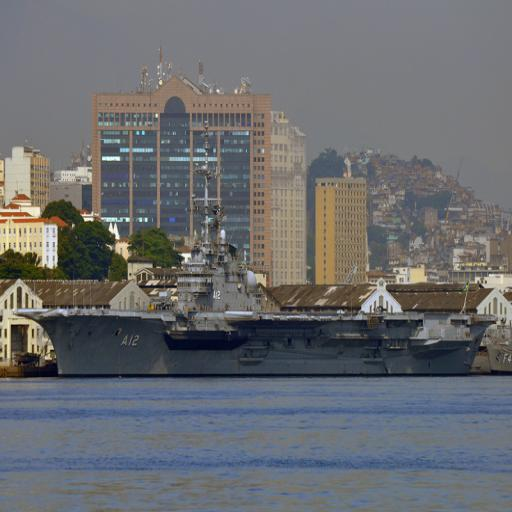Portanaves: (15, 131, 500, 384)
